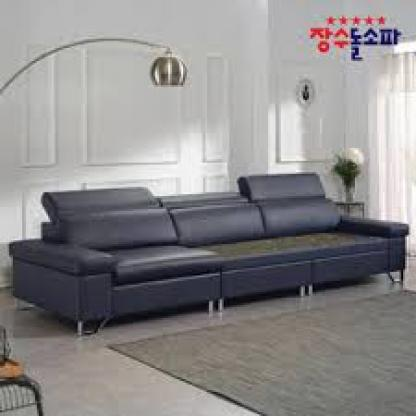sofa: (22, 179, 407, 335)
